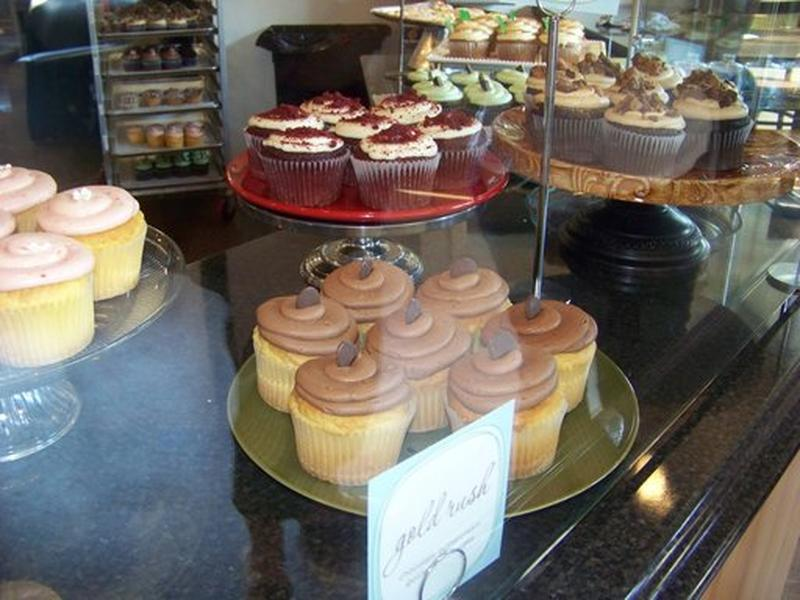cup_cake: (221, 195, 635, 531)
